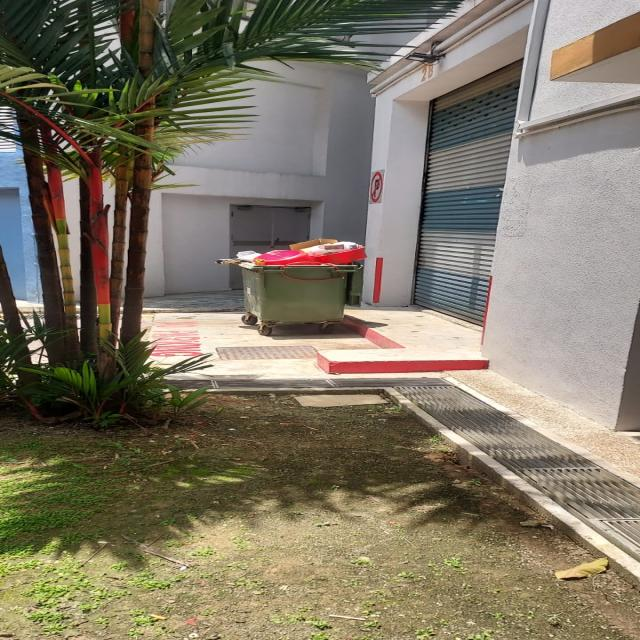bin_full: (238, 261, 356, 324)
bulk_waste: (318, 240, 373, 264), (286, 238, 338, 252), (302, 248, 336, 256)
normal_waste: (252, 250, 312, 266), (220, 250, 262, 264)
